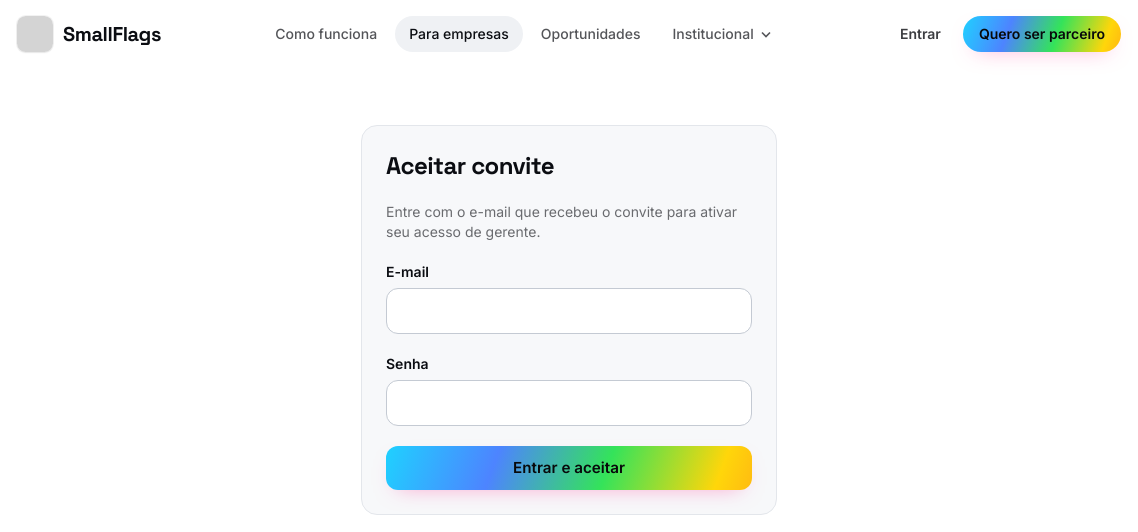
Test: R16_MANAGER_INVITE_POST_LOGIN_TOKEN_CONTINUITY › caminho completo não autenticado → login → MESMO token, exatamente uma vez
The width and height of the screenshot is (1138, 532).
expect the button "Entrar e aceitar" is shown: met, box 386,446 -> 752,490
Type "g@empresa.com.br" into the field labelled "E-mail" at (569, 311), box 386,288 -> 752,334
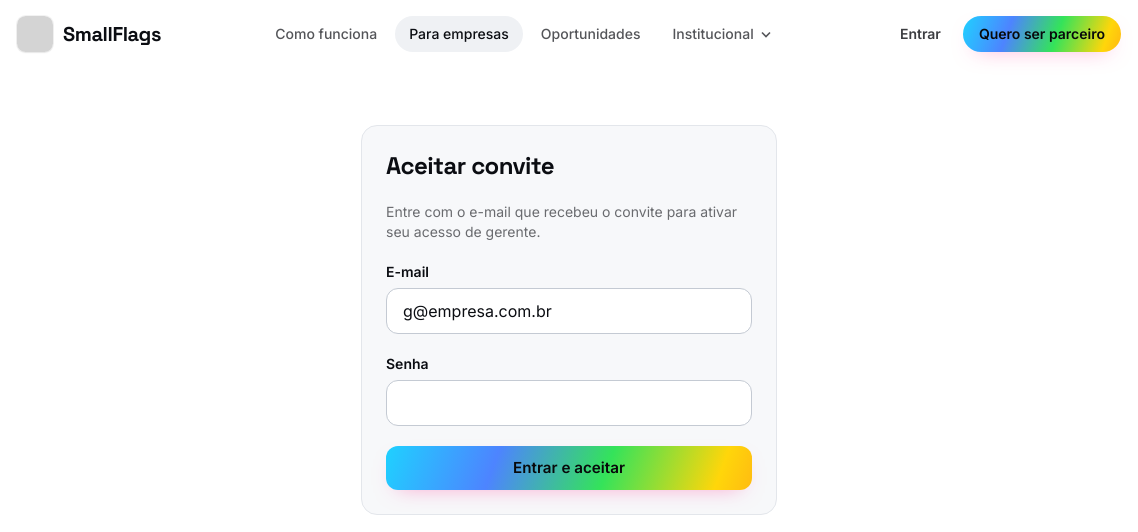
Type "senha-forte-1" into the password field labelled "Senha" at (569, 403), box 386,380 -> 752,426
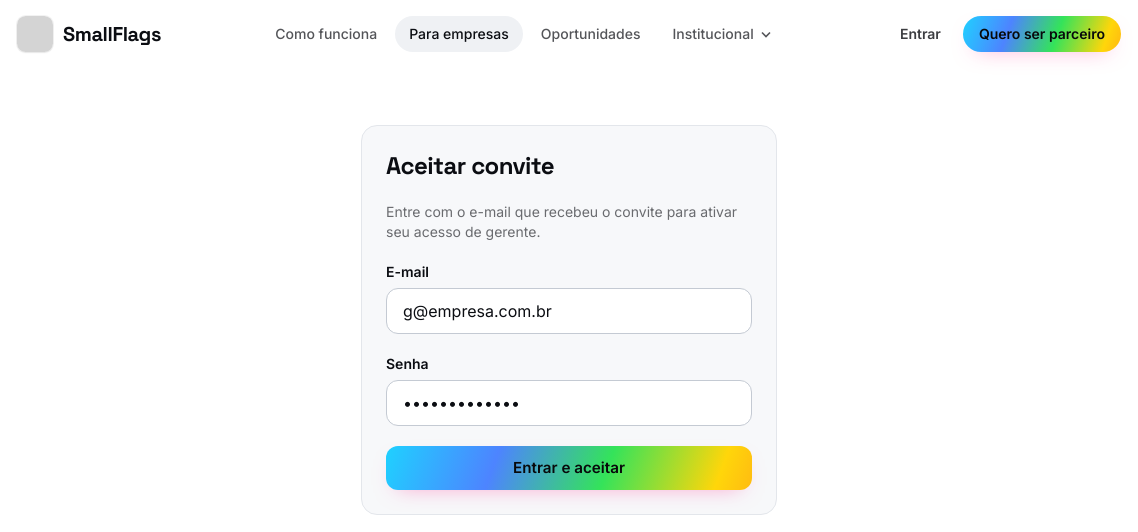
Click the button "Entrar e aceitar" at (569, 468), box 386,446 -> 752,490
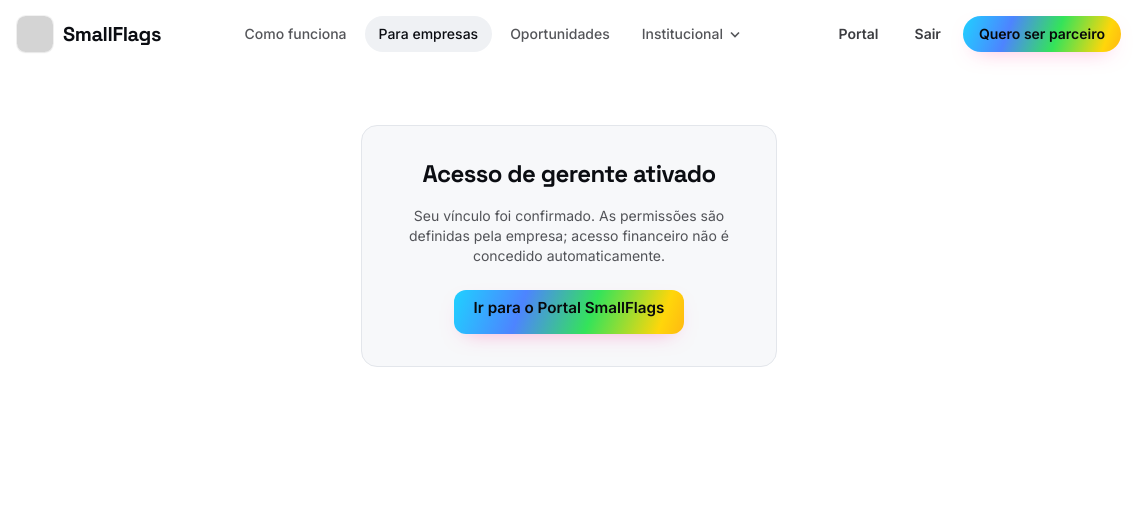
expect the heading "Acesso de gerente ativado" is shown: met, box 422,158 -> 716,189
